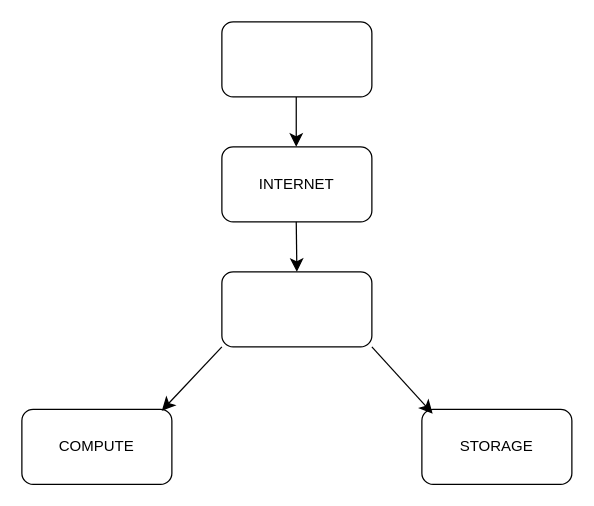
Some shapes in this 594 by 506 pixel diagram are drawn without their labels. The centre of each missing label's shape, as x and y in pixels:
NETWORK: the point at 296,309
USER: the point at 296,59
